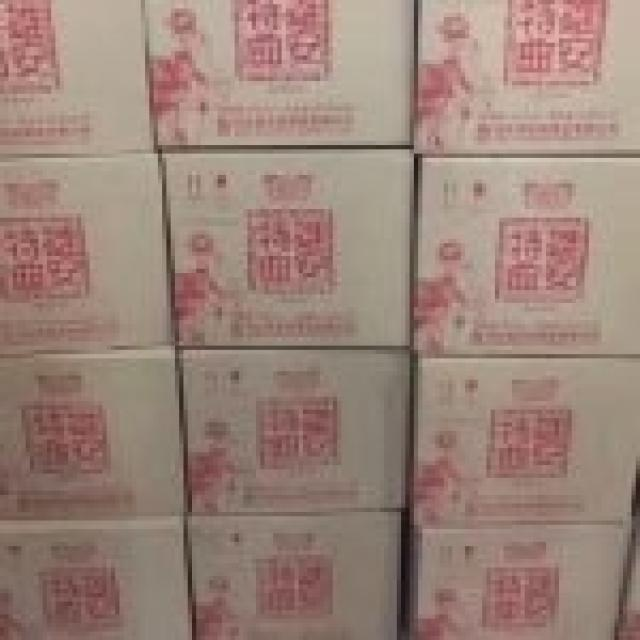box: (157, 148, 417, 348), (413, 152, 636, 354), (177, 346, 416, 515), (411, 348, 636, 525), (143, 2, 417, 145), (411, 0, 636, 154), (0, 156, 175, 350), (0, 344, 188, 516), (187, 508, 403, 636), (411, 517, 635, 635), (1, 1, 159, 156), (2, 515, 198, 635), (620, 521, 636, 633)
